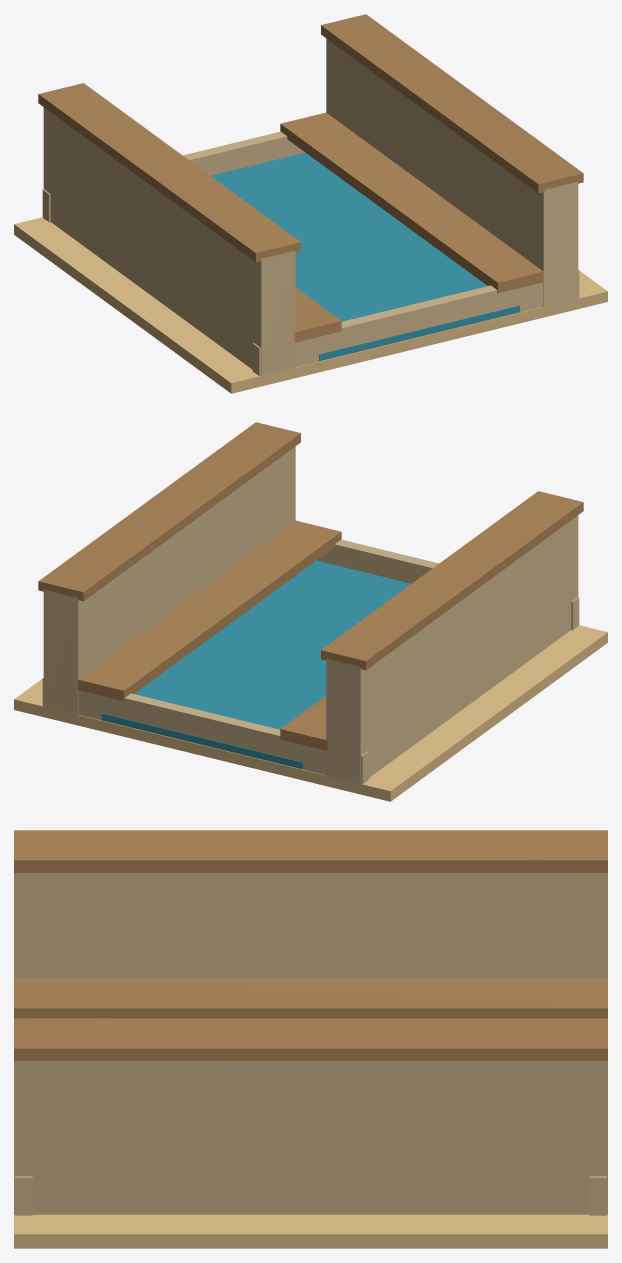
File: Flood-channel.glb
3 renders of one model, top to bottom at view 1: azimuth 30°, elevation 25°; view 2: azimuth 150°, elevation 25°; view 3: azimuth 270°, elevation 25°, orthographic. The views are drawn at different scales.
Parts seen in each view (by area): view 1: flood-channel-static-flood-concrete, flood-channel-static-flood-mark, flood-channel-static-flood-water, flood-channel-static-flood-edge, flood-channel-static-flood-earth; view 2: flood-channel-static-flood-concrete, flood-channel-static-flood-mark, flood-channel-static-flood-water, flood-channel-static-flood-edge, flood-channel-static-flood-earth; view 3: flood-channel-static-flood-concrete, flood-channel-static-flood-mark, flood-channel-static-flood-edge, flood-channel-static-flood-earth.
Part boxes in pixels (x1,y1,x2,y2): flood-channel-static-flood-concrete: (42,38,579,379); flood-channel-static-flood-mark: (38,14,583,262); flood-channel-static-flood-water: (210,152,519,360); flood-channel-static-flood-edge: (280,112,543,342); flood-channel-static-flood-earth: (14,217,607,393); flood-channel-static-flood-concrete: (42,446,579,786); flood-channel-static-flood-mark: (38,422,583,670); flood-channel-static-flood-water: (102,560,411,768); flood-channel-static-flood-edge: (78,520,341,750); flood-channel-static-flood-earth: (14,625,607,801); flood-channel-static-flood-concrete: (14,873,607,1215); flood-channel-static-flood-mark: (14,830,607,1060); flood-channel-static-flood-edge: (14,978,607,1018); flood-channel-static-flood-earth: (14,1214,607,1248).
Size of the model in its own units: 6 by 2.05 by 6.
